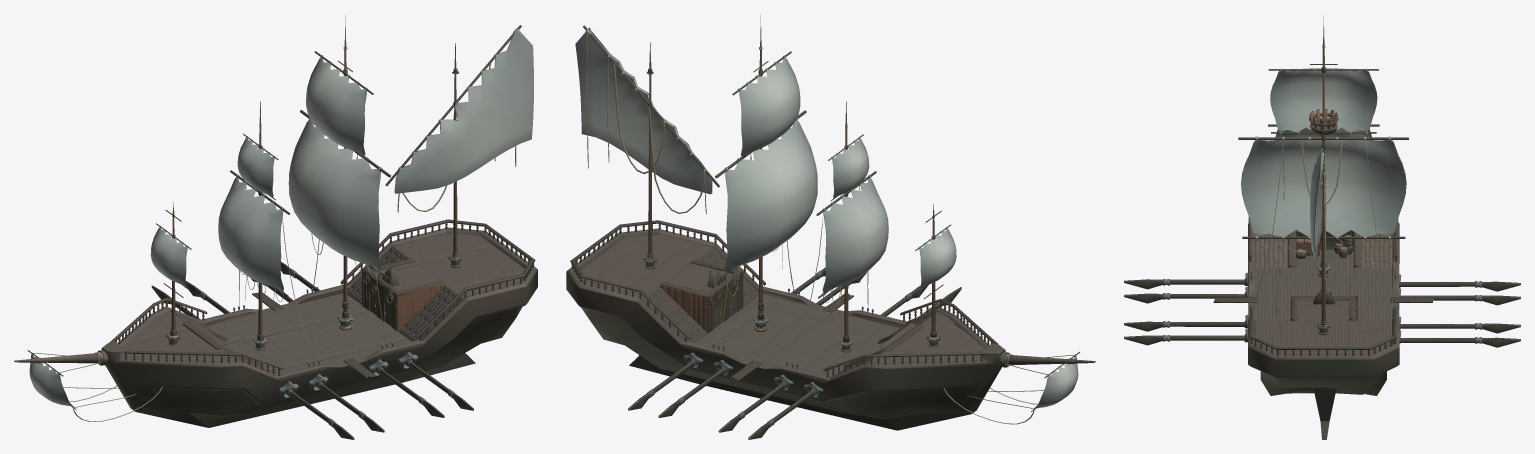
The model's file is BoatFinalFinalfinalForreal.fbx.
The picture shows the model from 3 angles, left to right: view 1: azimuth 30°, elevation 25°; view 2: azimuth 150°, elevation 25°; view 3: azimuth 270°, elevation 25°; orthographic projection. The views are drawn at different scales.
Parts seen in each view (by area): view 1: Boat, pCylinder112, pCylinder113, pCylinder111; view 2: Boat, pCylinder118; view 3: Boat, pCylinder114, pCylinder111, pCylinder113, pCylinder117, pCylinder115, pCylinder118, pCylinder112, pCylinder116.
Boxes of the visible parts, <box> form: Boat: <box>14,15,537,427</box>; pCylinder112: <box>316,381,384,432</box>; pCylinder113: <box>376,366,444,417</box>; pCylinder111: <box>285,388,354,439</box>; Boat: <box>566,15,1095,430</box>; pCylinder118: <box>628,359,696,410</box>; Boat: <box>1213,15,1433,439</box>; pCylinder114: <box>1124,334,1247,345</box>; pCylinder111: <box>1124,278,1247,289</box>; pCylinder113: <box>1124,320,1247,331</box>; pCylinder117: <box>1399,323,1520,333</box>; pCylinder115: <box>1399,281,1520,291</box>; pCylinder118: <box>1399,337,1520,347</box>; pCylinder112: <box>1124,292,1246,303</box>; pCylinder116: <box>1400,295,1520,305</box>.
Size of the model in its own units: 4891 by 3440 by 3382.
